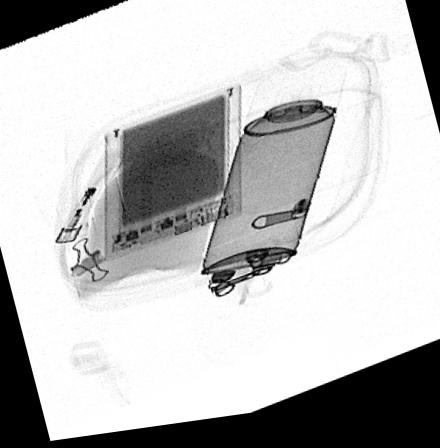Lighter: (51, 152, 123, 245)
Powerbank: (199, 71, 347, 281), (104, 87, 241, 263)
